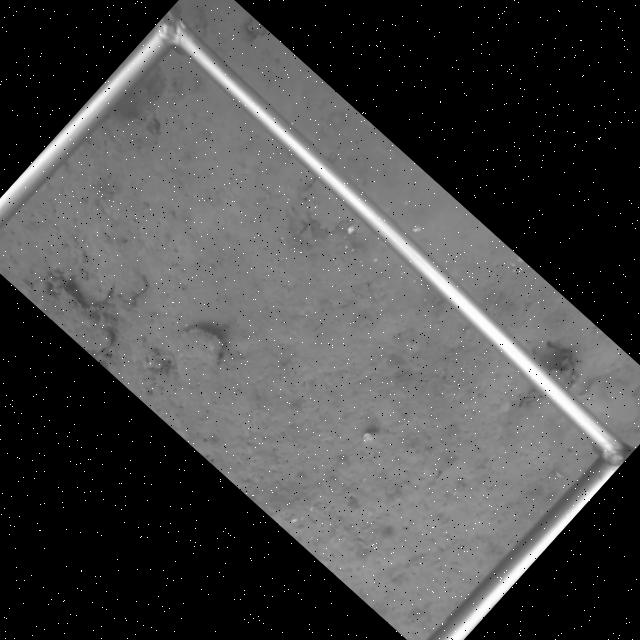Oyster-Indeterminate: (26, 272, 113, 356), (176, 325, 224, 370)
